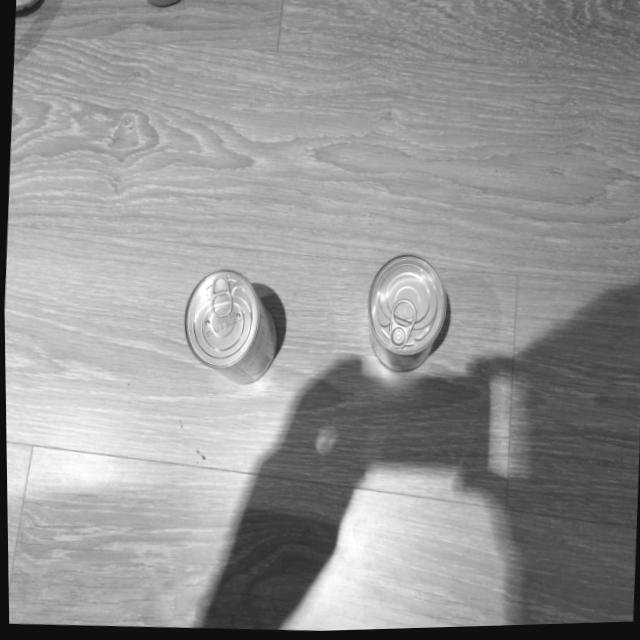Can-Metal: (175, 261, 283, 394), (358, 250, 456, 383)
